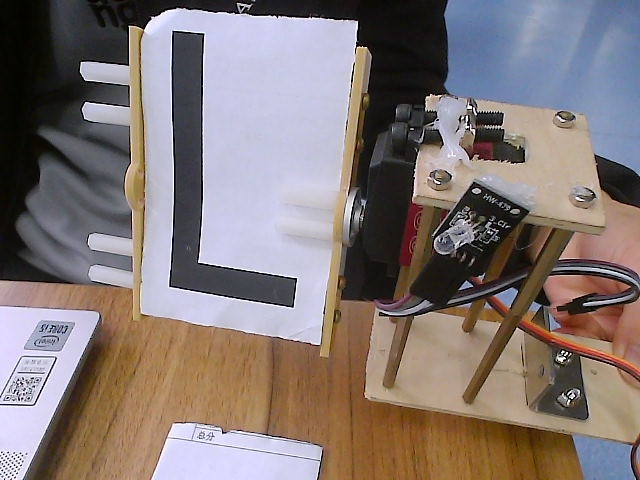L: (67, 3, 412, 359)
